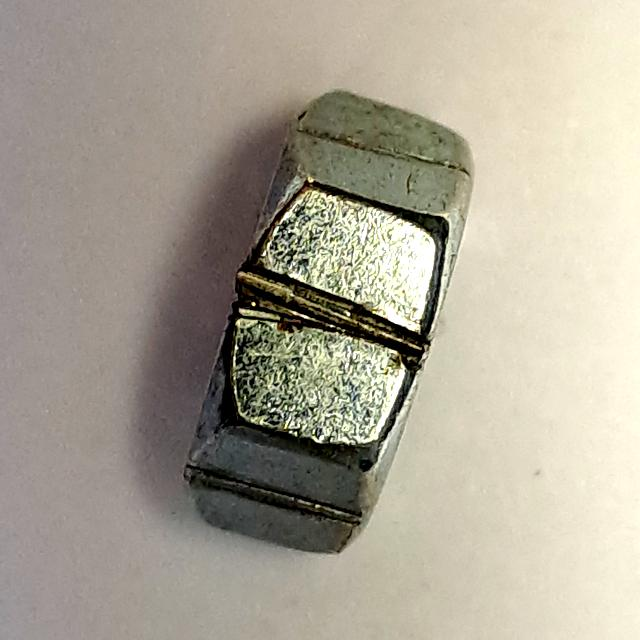Side_Scratches: (171, 77, 490, 575)
